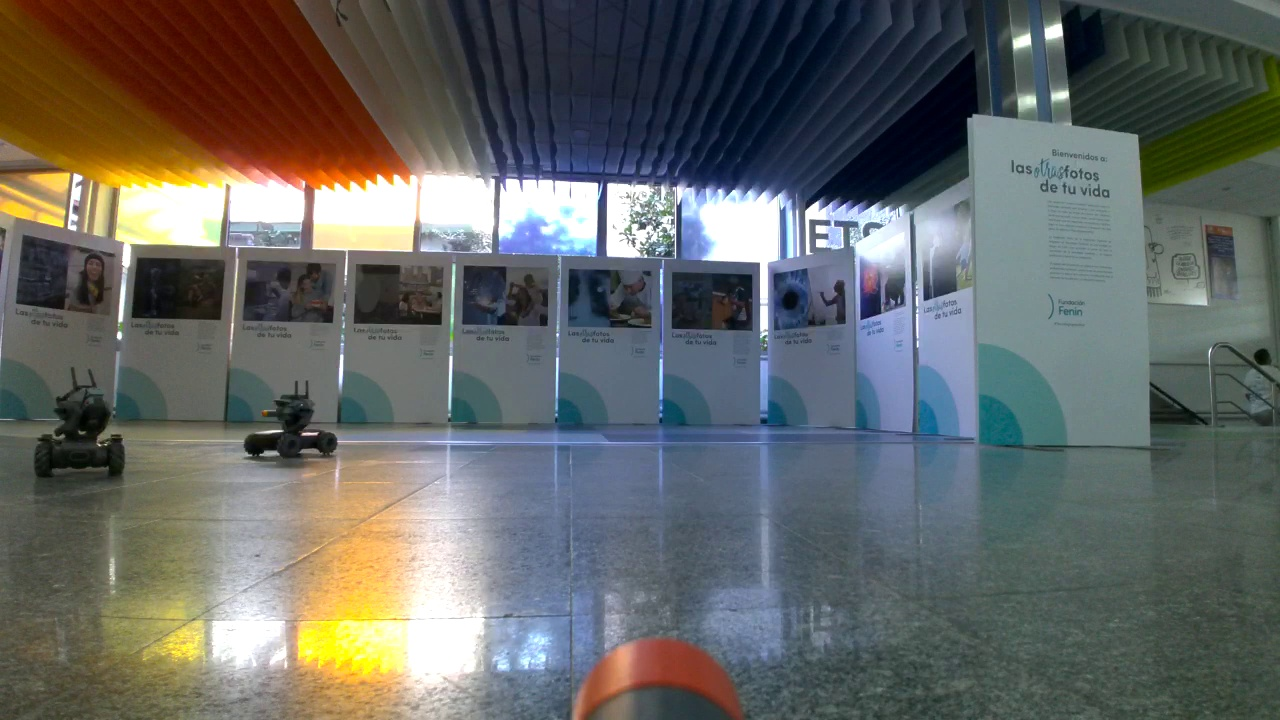robot: (32, 385, 128, 474), (244, 396, 339, 458)
